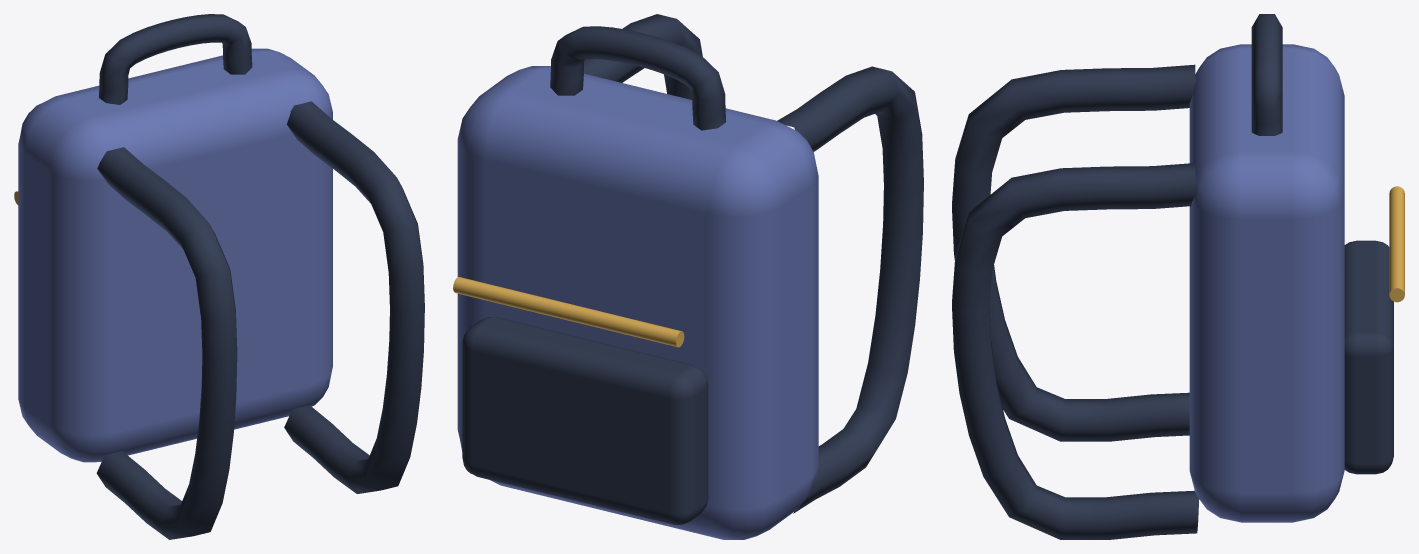
The model's file is objeto-backpack.glb.
3 views of the same model, side by side, from view 1: azimuth 30°, elevation 25°; view 2: azimuth 150°, elevation 25°; view 3: azimuth 270°, elevation 25° (orthographic). The views are drawn at different scales.
Parts seen in each view (by area): view 1: equipment:backpack; view 2: equipment:backpack; view 3: equipment:backpack.
Part boxes in pixels (x1,y1,x2,y2): equipment:backpack: (14, 14, 424, 539); equipment:backpack: (453, 14, 923, 539); equipment:backpack: (952, 14, 1404, 539).
Size of the model in its own units: 0.4 by 0.5802 by 0.5259.
